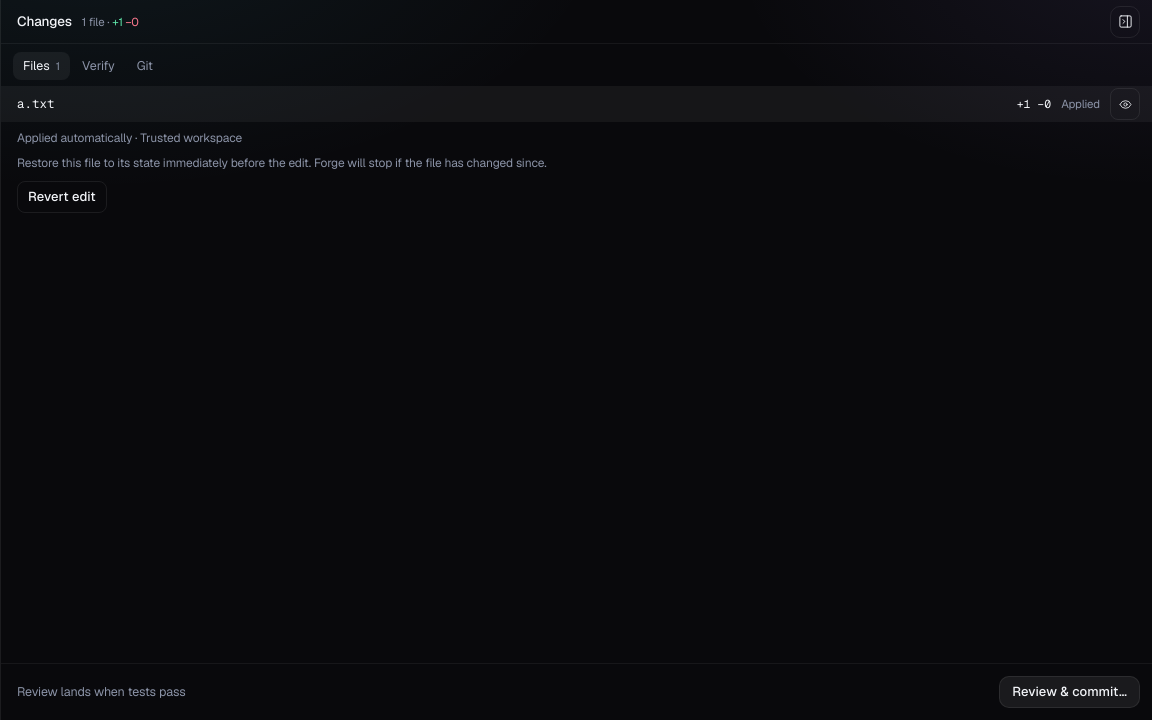
Test: multi-member status+diff on one Git tab without Dirty/Ahead chips (AC-01/02/03)
Click the tab "Git" at (145, 66), box [127,52,163,80]
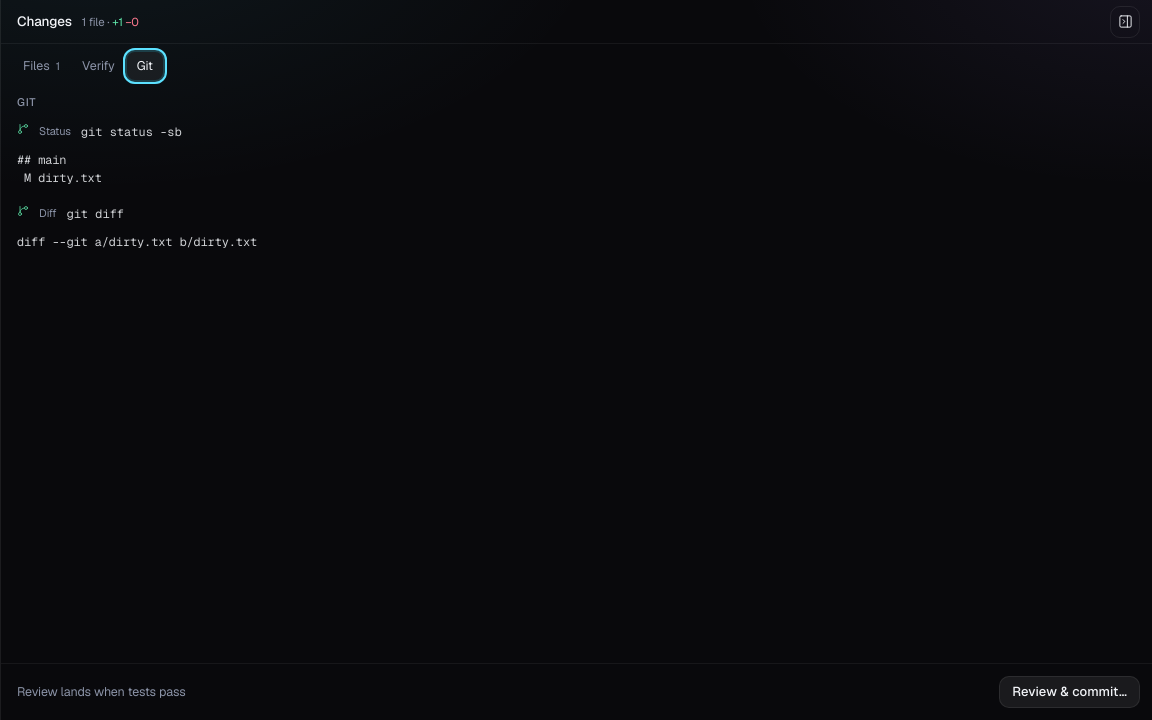
Now the text "Status" is shown, box [39,122,71,139]
Now the text "Diff" is shown, box [39,204,56,221]
Now the text "git status -sb" is shown, box [81,122,182,140]
